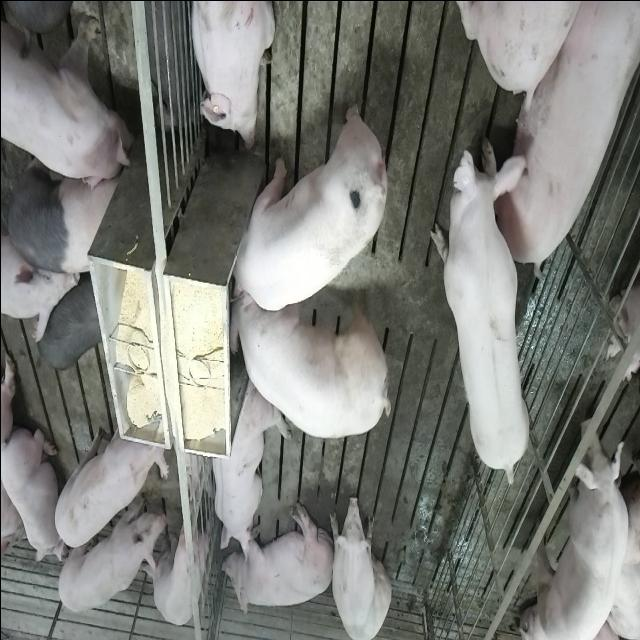Feeding: (222, 101, 384, 312), (230, 282, 394, 440)
Lateral_lying: (220, 499, 334, 618)
Sitting: (328, 492, 390, 640)
Standing: (429, 129, 533, 489), (526, 412, 638, 640), (2, 0, 134, 191), (51, 412, 167, 550), (4, 152, 126, 272), (55, 488, 167, 614), (148, 505, 204, 627)
Sternal_lying: (208, 375, 284, 557), (185, 0, 272, 150), (3, 424, 62, 567)
